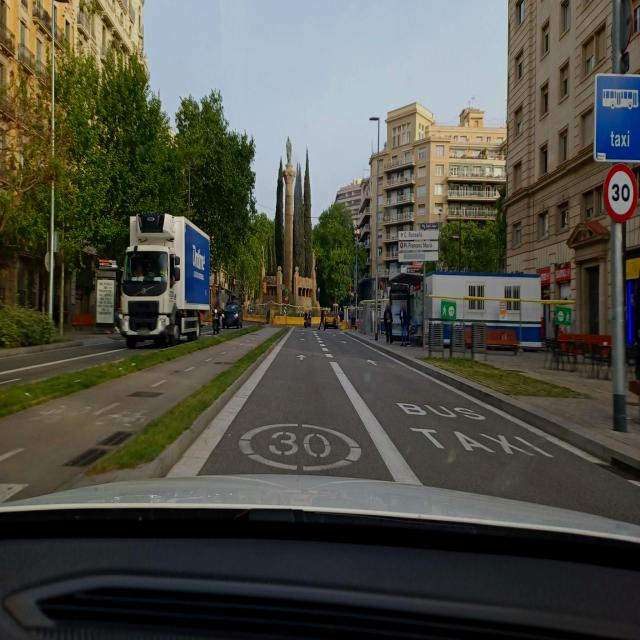car: (222, 300, 242, 329), (323, 311, 338, 330)
